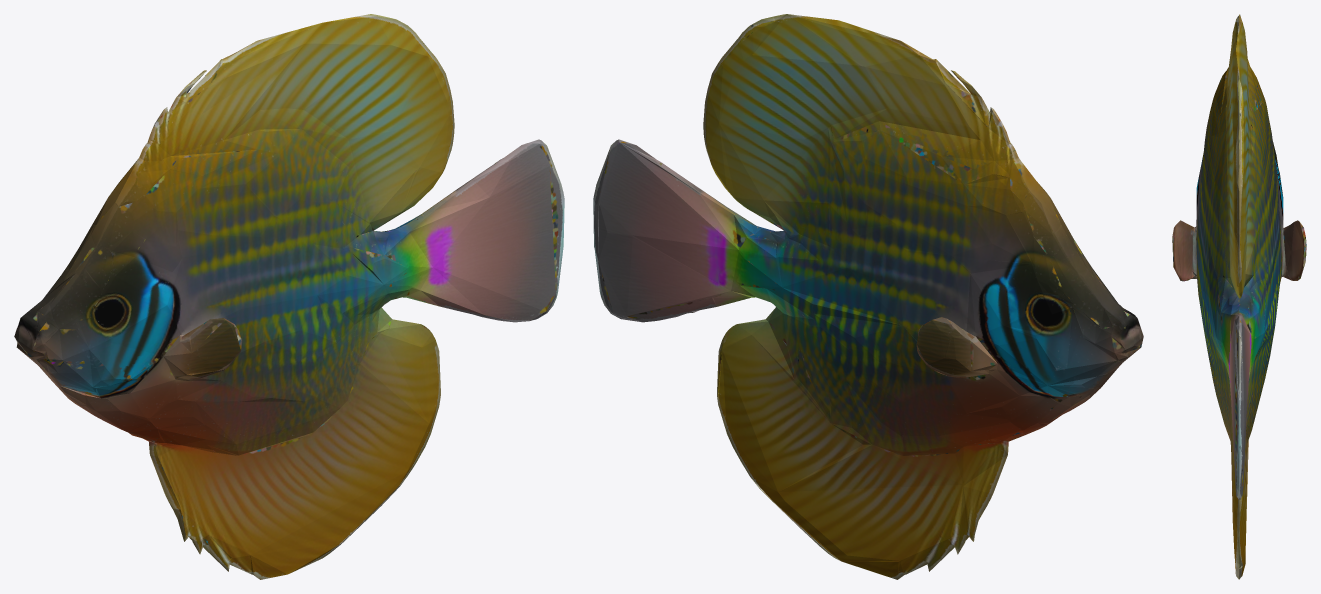
The model's file is fish_0073_smpl23_resized.glb.
3 renders of one model, left to right at view 1: azimuth 30°, elevation 25°; view 2: azimuth 150°, elevation 25°; view 3: azimuth 270°, elevation 25°, orthographic.
Parts seen in each view (by area): view 1: world; view 2: world; view 3: world.
Boxes of the visible parts, x1,y1,x2,y2 form: world: (14, 14, 564, 579); world: (593, 14, 1143, 579); world: (1172, 14, 1306, 579).
Size of the model in its own units: 1.99 by 1.9 by 0.4327.
1 material, 1 textured.
